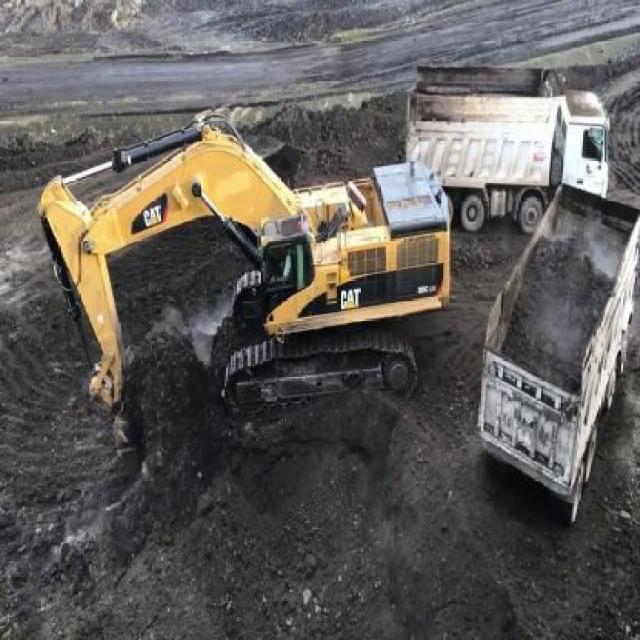Dump Truck: (472, 182, 634, 527), (403, 58, 614, 234)
Excavator: (24, 113, 451, 490)
